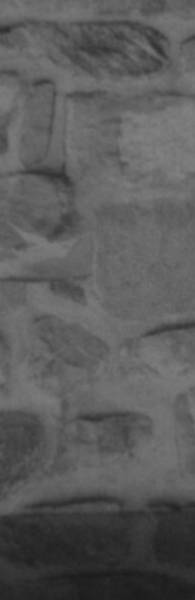water: (0, 510, 195, 600)
